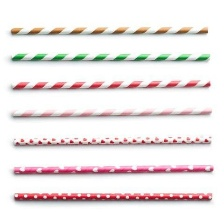drinking_straw: (6, 102, 217, 123), (8, 129, 217, 150), (6, 74, 215, 93), (8, 159, 217, 178), (9, 187, 216, 206), (6, 21, 212, 40), (6, 48, 213, 65)
